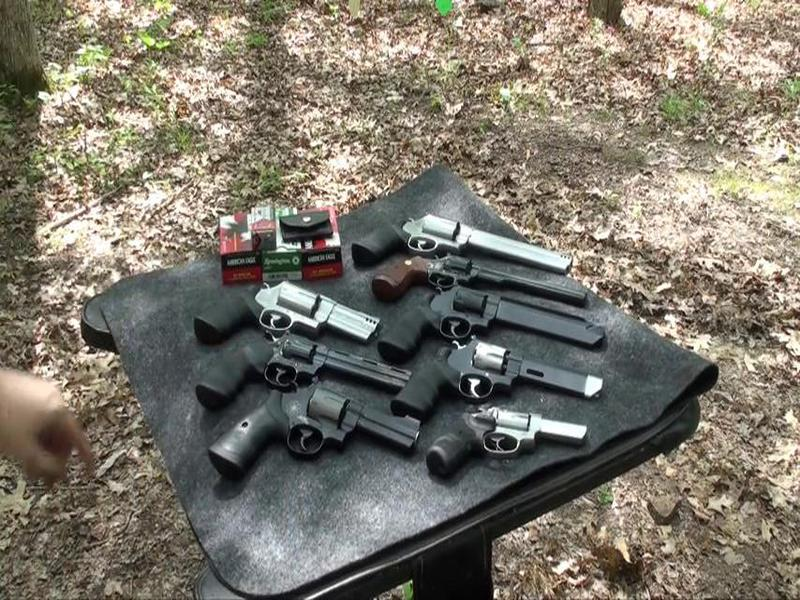Revolver: (212, 382, 424, 486), (347, 213, 573, 279), (192, 274, 384, 345), (430, 399, 588, 471)
